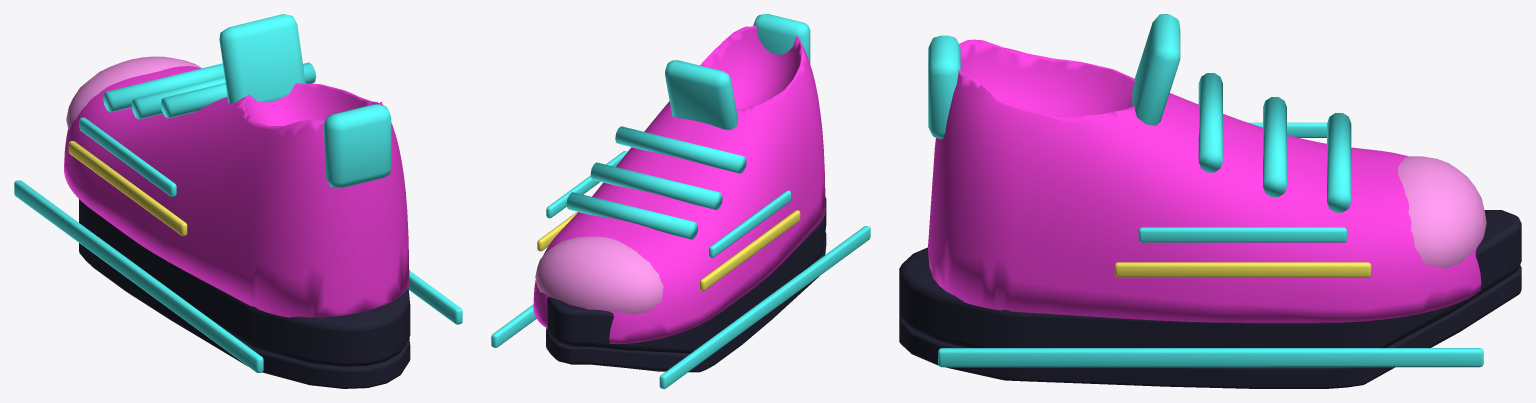
The model's file is shoe_neon.fbx.
3 renders of one model, left to right at view 1: azimuth 30°, elevation 25°; view 2: azimuth 150°, elevation 25°; view 3: azimuth 270°, elevation 25°, orthographic. The views are drawn at different scales.
Visible parts, largest first — view 1: shoe_neon; view 2: shoe_neon; view 3: shoe_neon.
Part boxes in pixels (bbox=[...]): shoe_neon: bbox=[14, 14, 462, 388]; shoe_neon: bbox=[491, 14, 870, 388]; shoe_neon: bbox=[899, 14, 1521, 388].
Size of the model in its own units: 1.66 by 2.13 by 3.88.
1 material, 1 textured.
